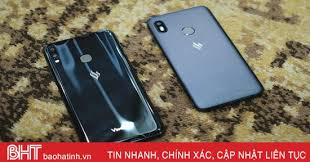vsmart: (39, 27, 166, 147), (147, 1, 268, 110)
